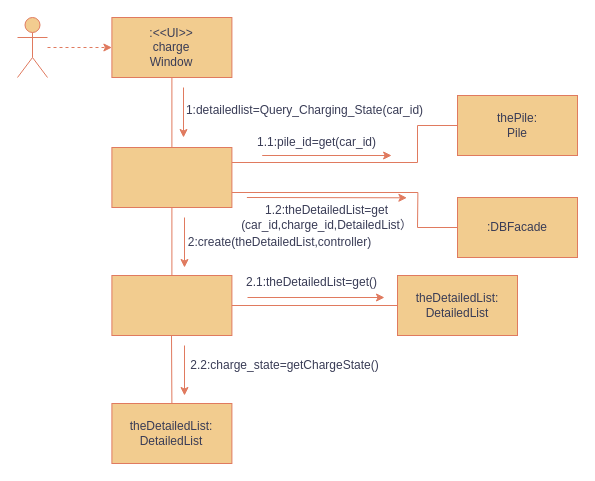
Image size: 595x481. Some labels were removed from this diagram. The box of each missing label's shape, as (x1, y1, x2, y2) in pixels:
:<<UI>> detailedList Window: (111, 274, 232, 336)
controller: carChargeController: (111, 146, 232, 208)
User: (16, 16, 48, 78)
